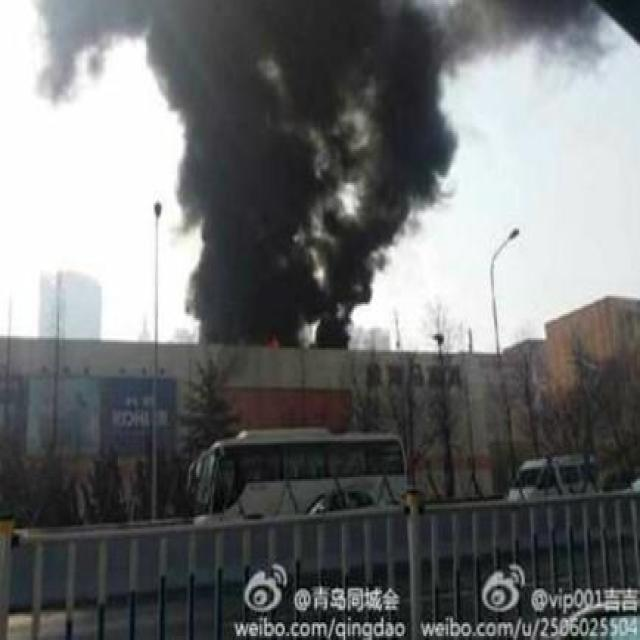Smoke: (32, 2, 624, 350)
